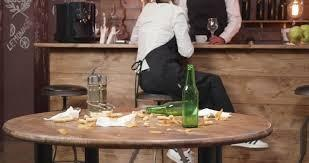Messy Table: (1, 61, 289, 163)
